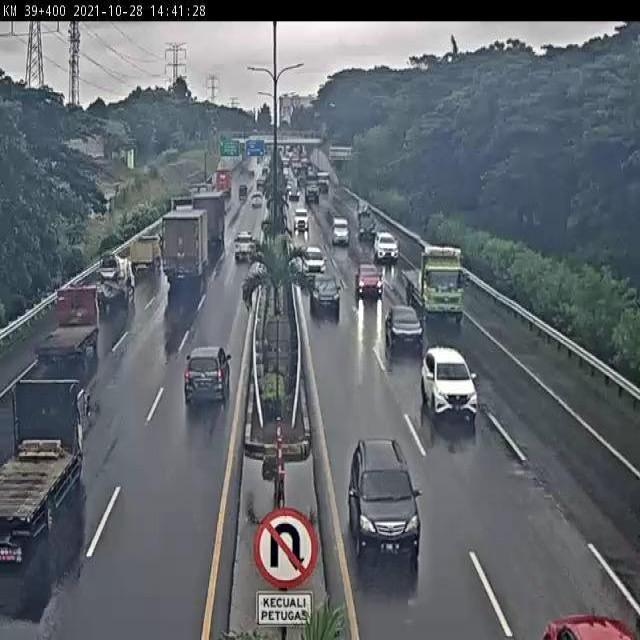car: (346, 440, 420, 561), (420, 346, 478, 422), (182, 346, 231, 406), (383, 305, 423, 352), (309, 272, 340, 316), (355, 264, 383, 299), (302, 246, 326, 278), (373, 232, 399, 261), (234, 231, 257, 261)
truck: (0, 382, 101, 570), (34, 284, 100, 367), (402, 245, 465, 324), (162, 208, 209, 279), (95, 252, 135, 308), (130, 236, 161, 272)
